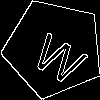W: (28, 23, 94, 88)
